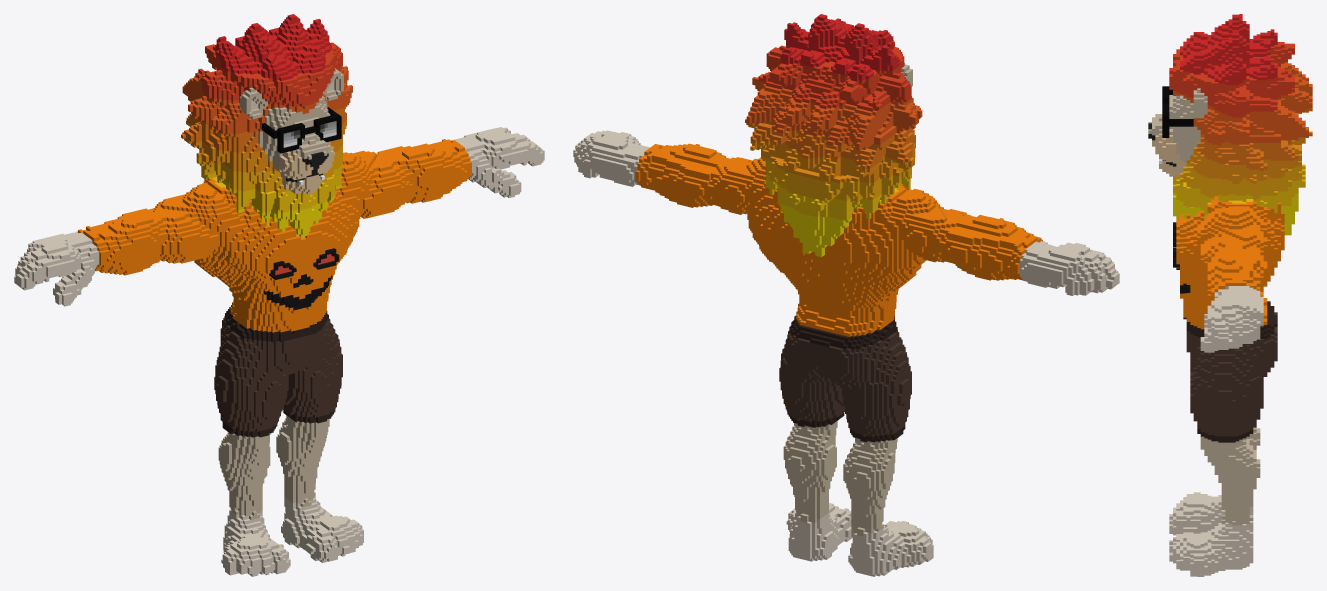
Rendered from 798-CjHdT_to.glb.
3 views of the same model, side by side, from view 1: azimuth 30°, elevation 25°; view 2: azimuth 150°, elevation 25°; view 3: azimuth 270°, elevation 25° (orthographic). The views are drawn at different scales.
Visible parts, largest first — view 1: standard; view 2: standard; view 3: standard.
Part boxes in pixels (left/top/right/bottom): standard: left=14, top=14, right=544, bottom=576; standard: left=573, top=14, right=1119, bottom=576; standard: left=1148, top=14, right=1312, bottom=576.
Size of the model in its own units: 17.2 by 16.5 by 4.7.
5 materials, 5 textured.
